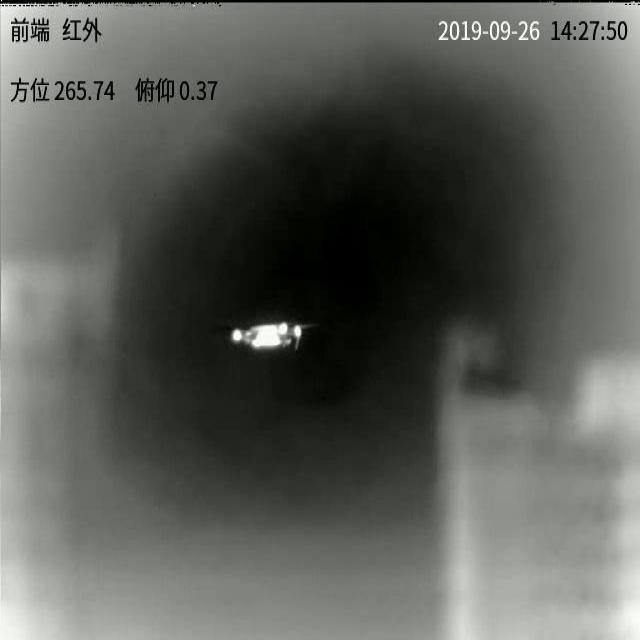drone: (231, 322, 302, 351)
